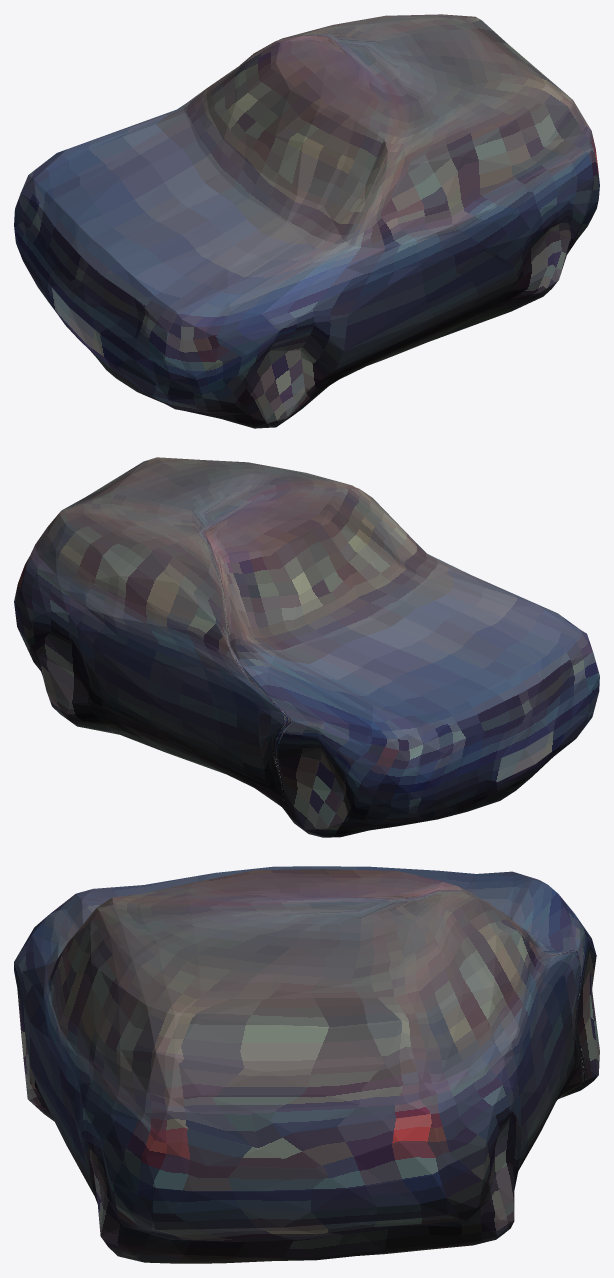
Rendered from video3_367.obj.
3 renders of one model, top to bottom at view 1: azimuth 30°, elevation 25°; view 2: azimuth 150°, elevation 25°; view 3: azimuth 270°, elevation 25°, orthographic. The views are drawn at different scales.
Bounding box in the file's own units: 1 × 0.4975 × 0.765.
Materials: 1 (1 with a texture image).
